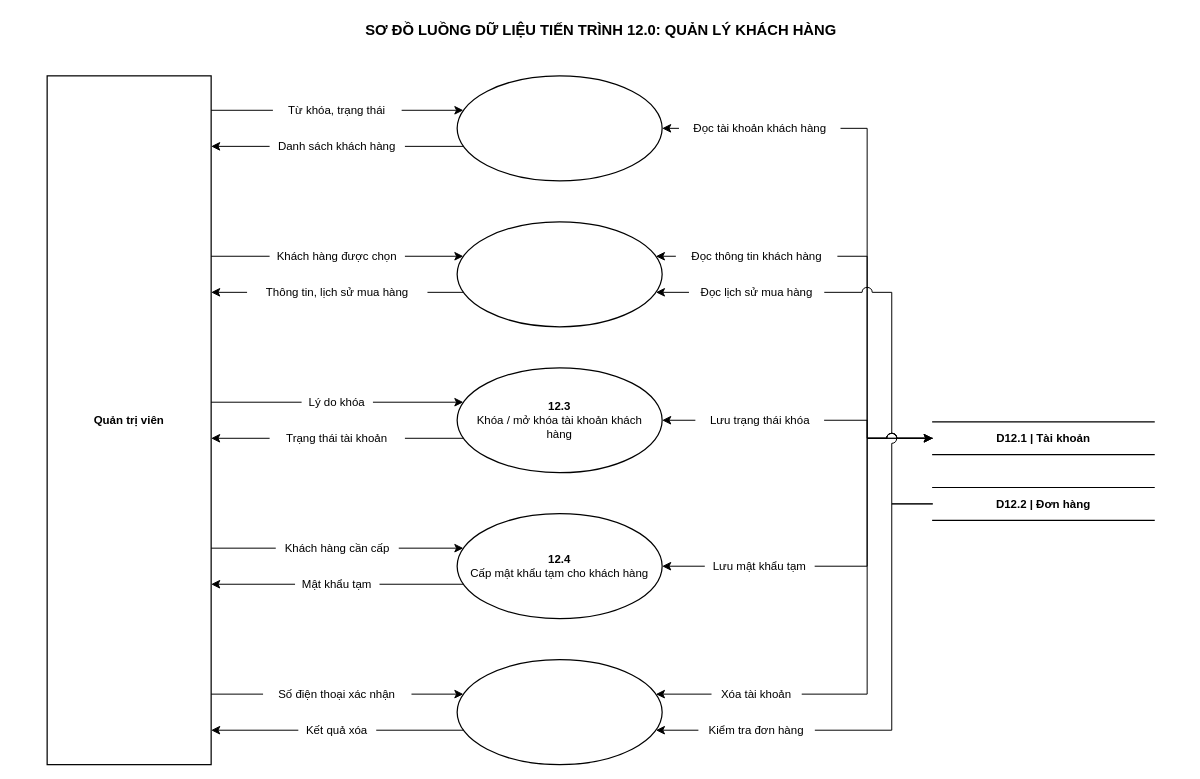
The diagram is 1200 pixels wide and 779 high, and some of its shapes have lost their labels. Each missing label, with the box of its shape:
12.1 Xem danh sách khách hàng: (456, 75, 662, 181)
12.2 Xem chi tiết khách hàng: (456, 221, 662, 327)
12.5 Xóa tài khoản khách hàng: (456, 659, 662, 765)
